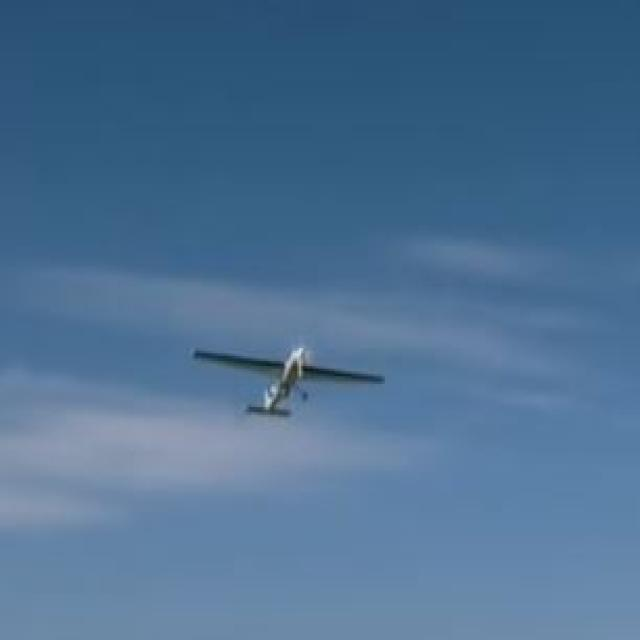iha: (189, 376, 384, 389)
